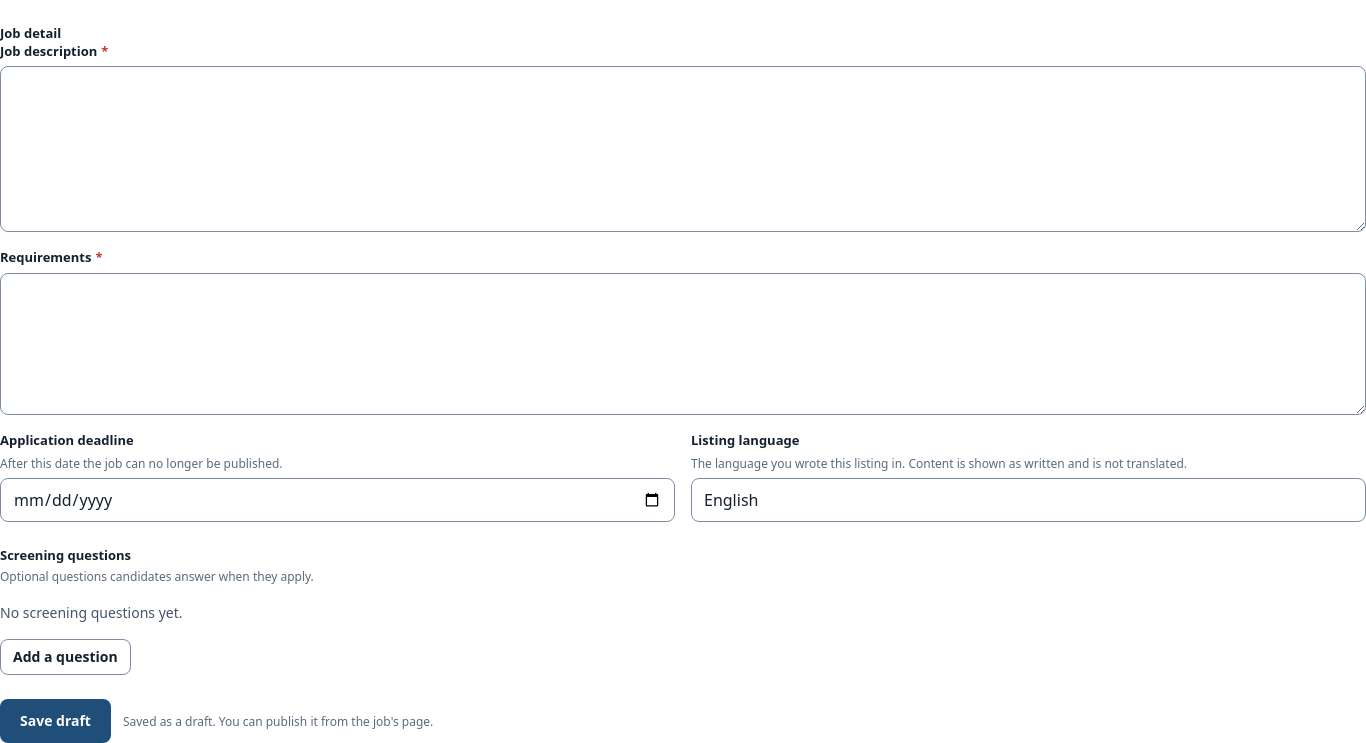
Test case: JobForm › adds and removes a screening question
(page scrolled)
Expected: the text "No screening questions yet." is shown, x1=0 y1=603 x2=182 y2=622
Click the button "Add a question".
click(65, 657)  # box x1=0 y1=639 x2=131 y2=675
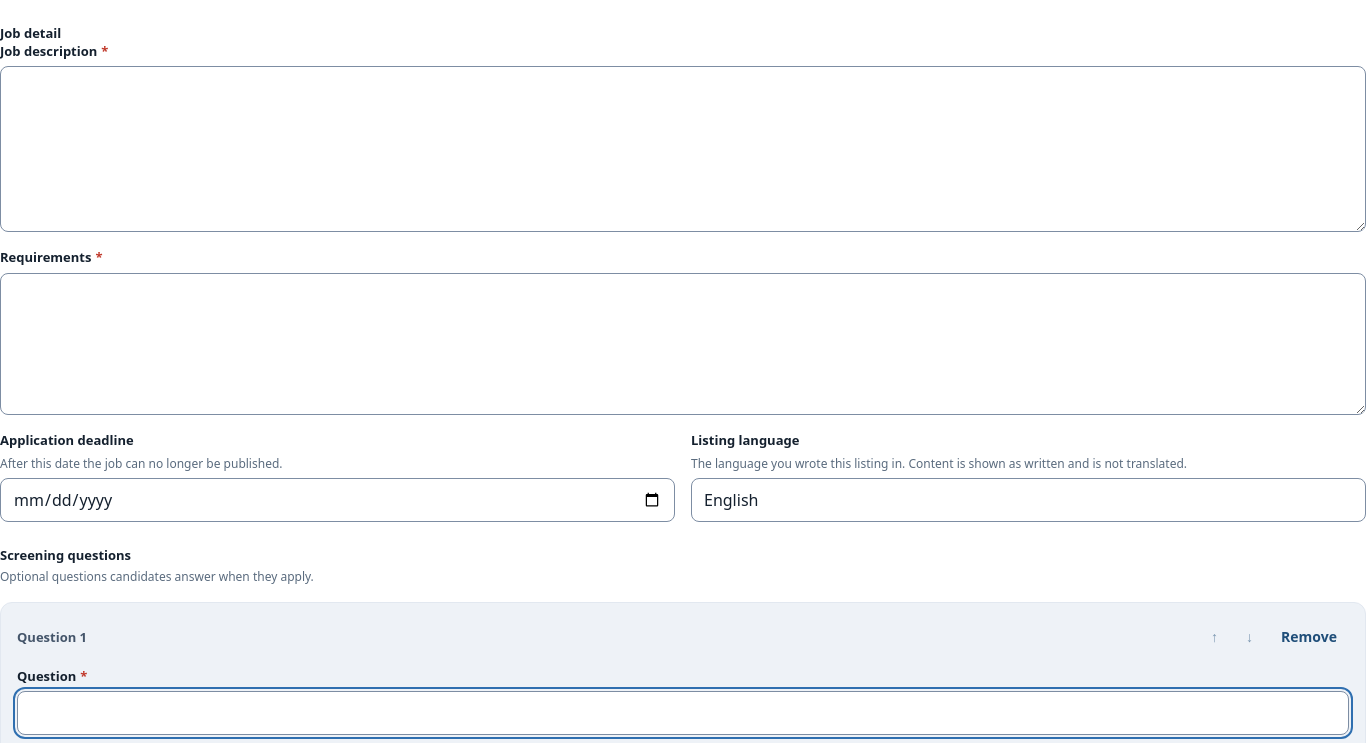
Expected: the field labelled "Question*" is shown, x1=17 y1=691 x2=1349 y2=735
Click the button with aria-label "Remove question 1".
click(1309, 637)  # box x1=1269 y1=619 x2=1349 y2=655
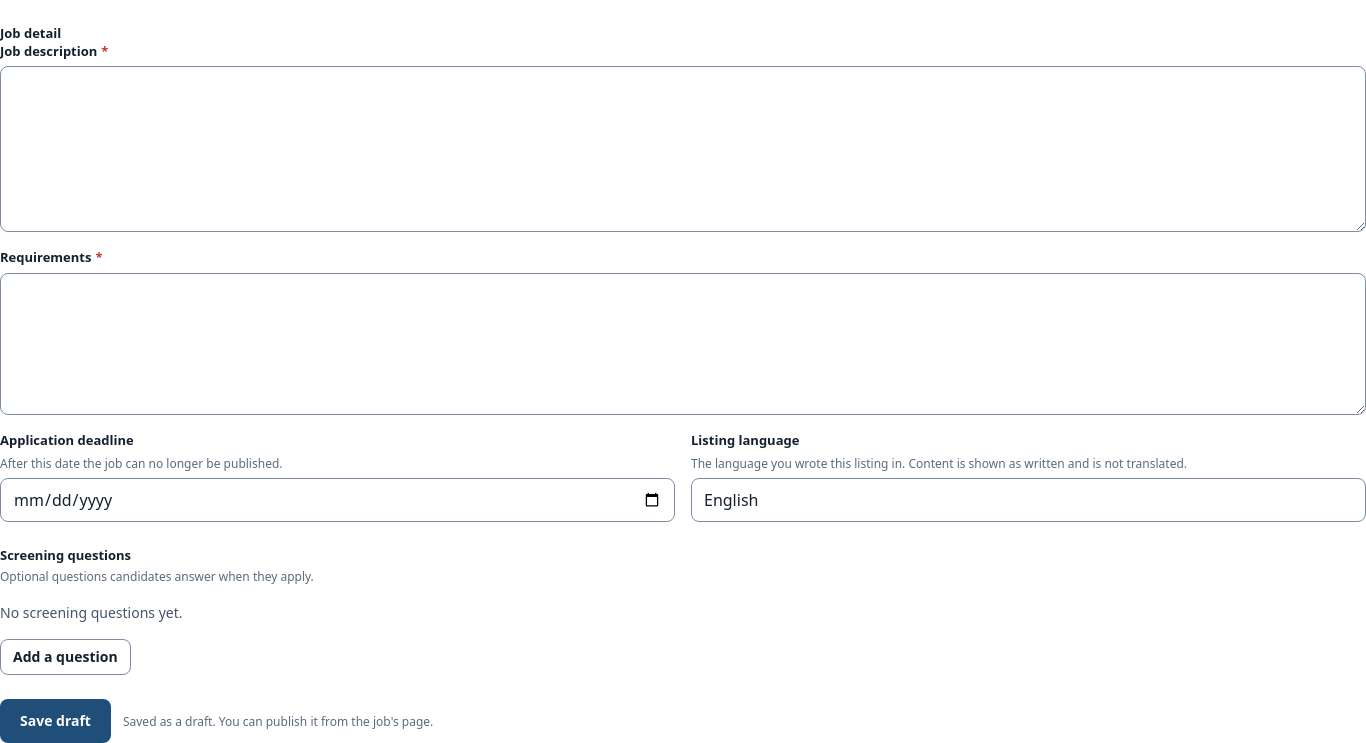
Expected: the text "No screening questions yet." is shown, x1=0 y1=603 x2=182 y2=622
